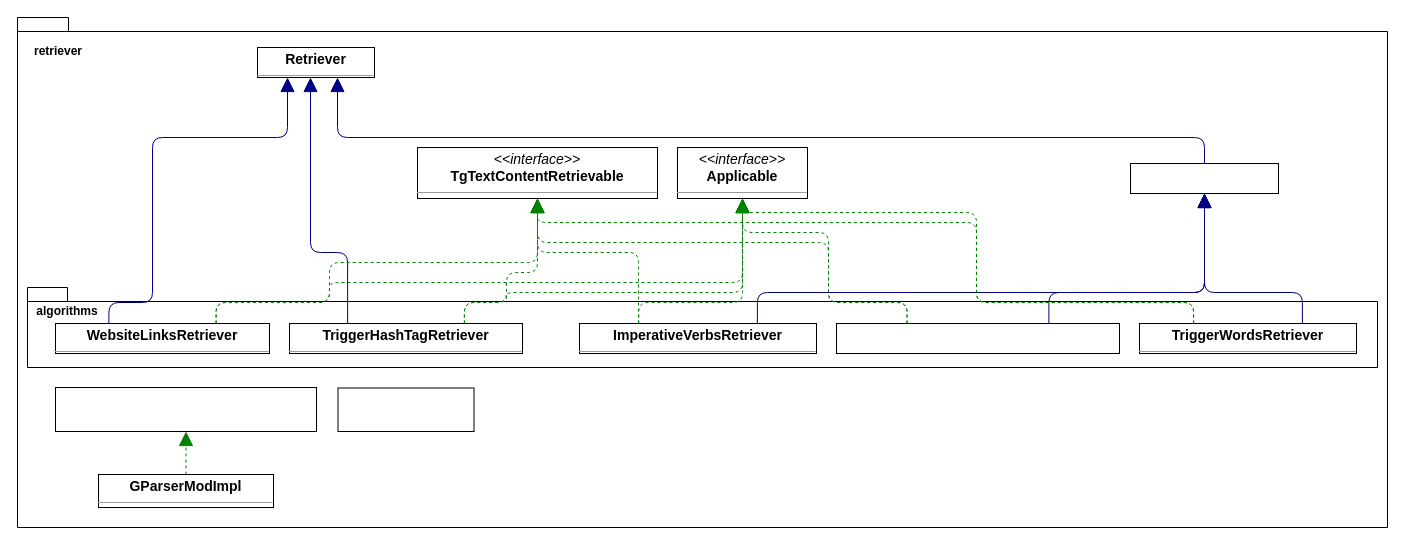
This 1405x545 diagram has some shape labels left out. The shapes that lost their labels are listed below. From the top down, each one's centre as x and y in pixels, then its label:
the point at 1204,178: TextRetriever
the point at 978,338: AdvertisementObjectsRetriever
the point at 185,409: <<interface>> ModifiedGraphematicParser
the point at 405,409: <<enumeration>> Flag
